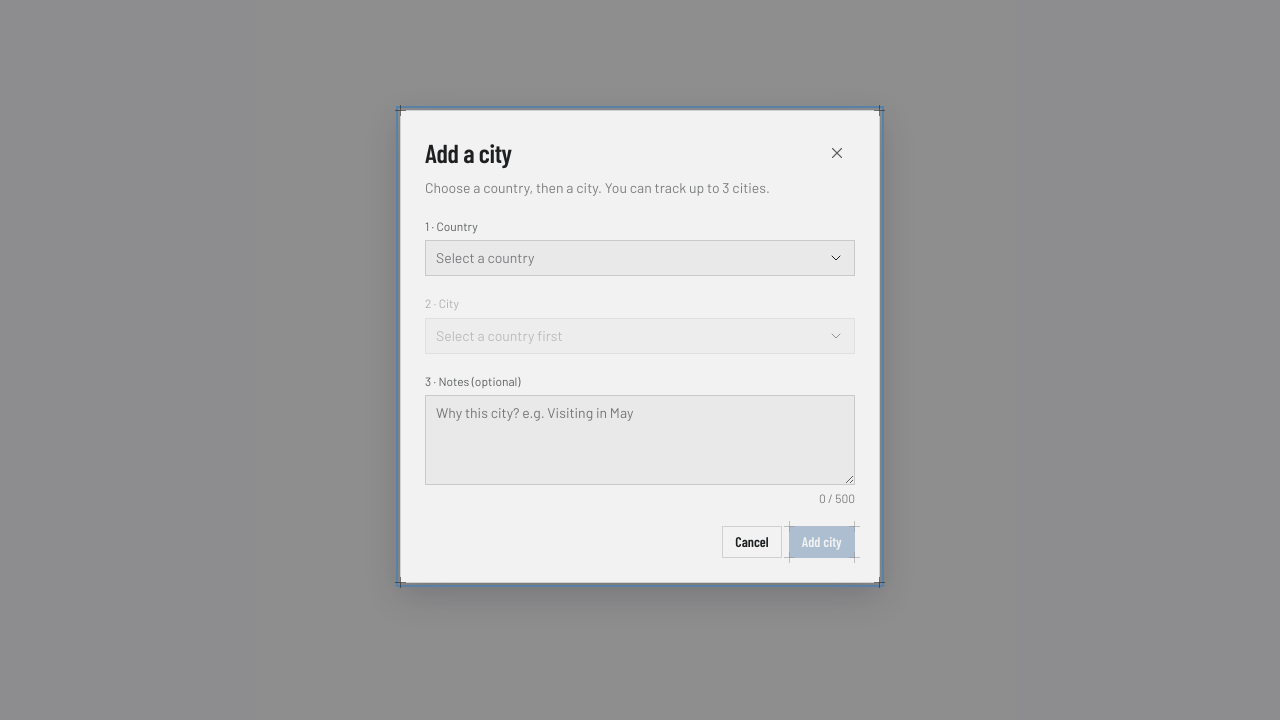
Test: AddCityDialog › says when no country matches
Click the button named "1 · Country" at x=485, y=258, box x1=425 y1=240 x2=855 y2=276
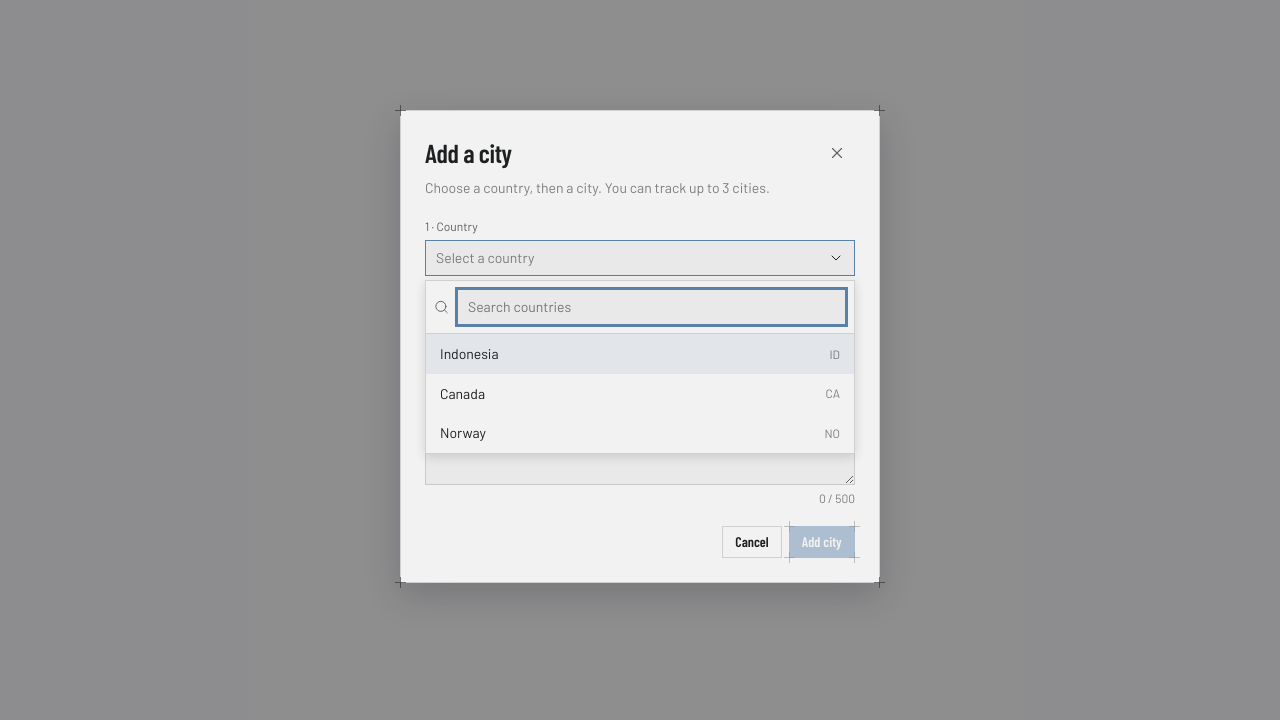
Now the option "Indonesia ID" is shown, box x1=426 y1=334 x2=854 y2=374
Type "zz" into the dropdown labelled "Search countries" at x=652, y=307, box x1=457 y1=289 x2=846 y2=325
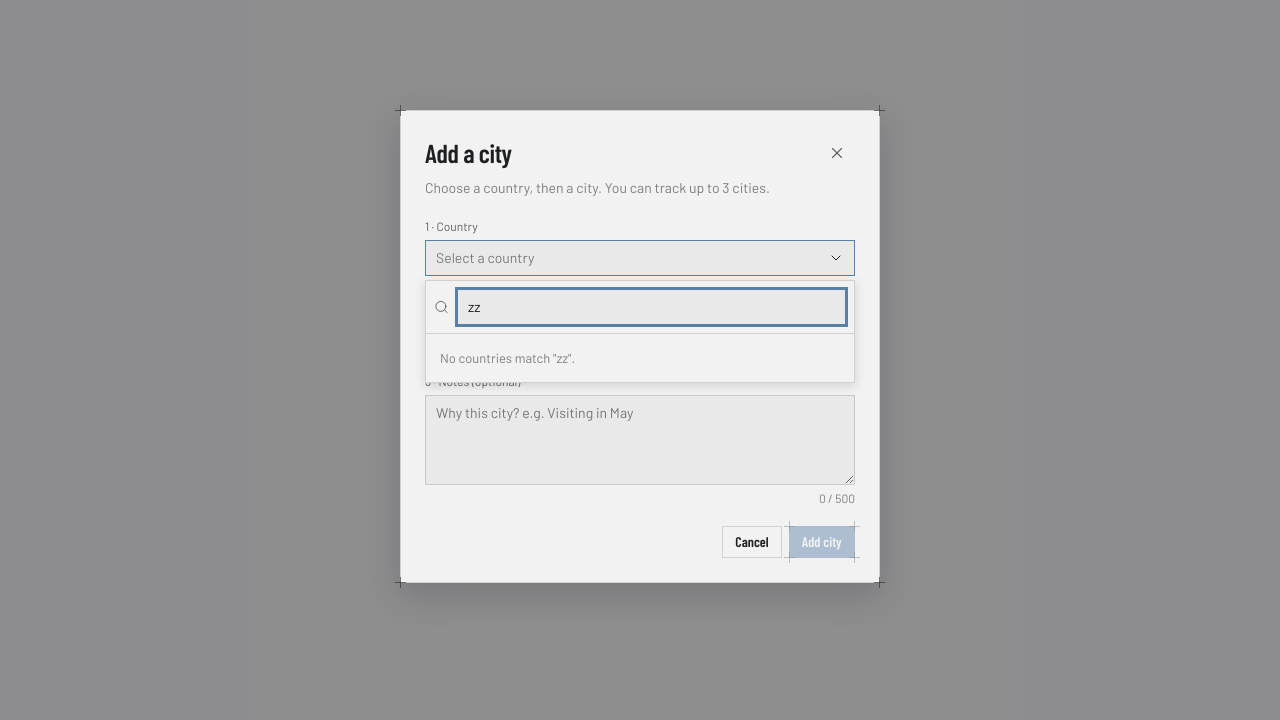
Now the list item "No countries match \"zz\"." is shown, box x1=440 y1=350 x2=575 y2=366
